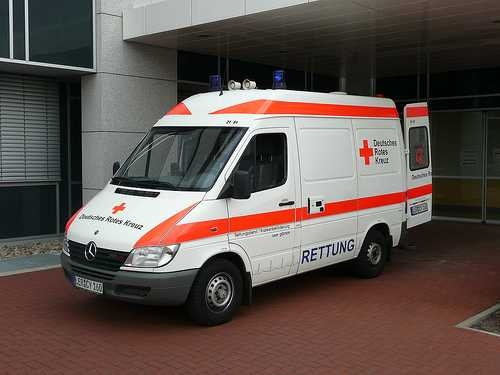Ambulance: (67, 70, 444, 318)
